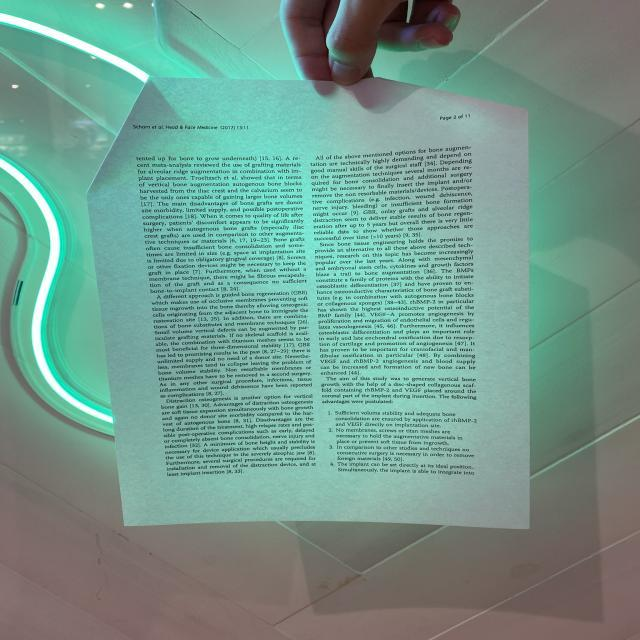document: (88, 79, 528, 529)
